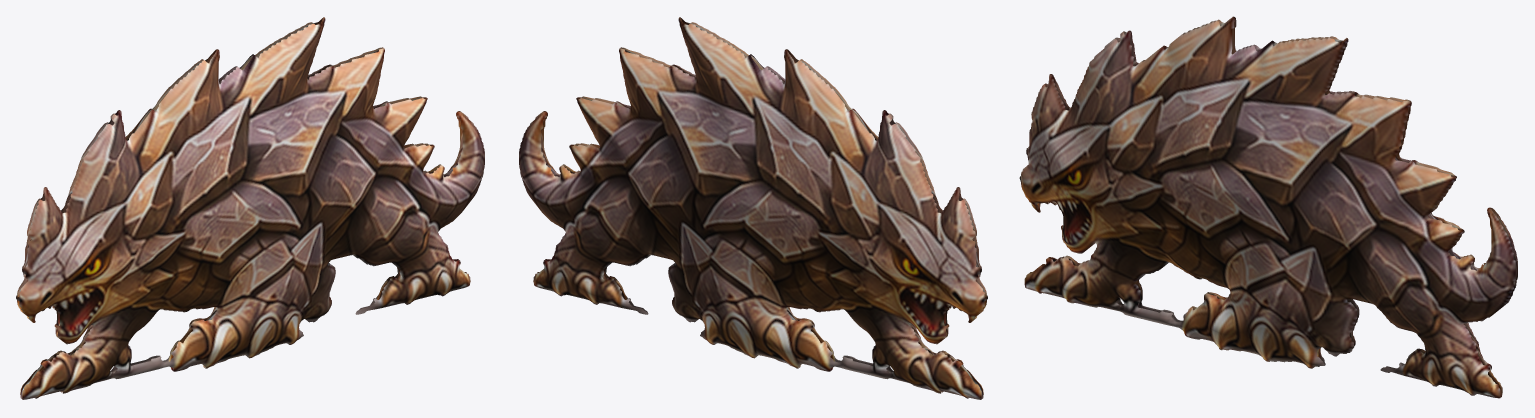
Rendered from rochedo.glb.
The picture shows the model from 3 angles, left to right: view 1: azimuth 30°, elevation 25°; view 2: azimuth 150°, elevation 25°; view 3: azimuth 330°, elevation 25°; orthographic projection. The views are drawn at different scales.
Visible parts, largest first — view 1: rochedo; view 2: rochedo; view 3: rochedo.
Part boxes in pixels (box(x1,y1,x2,y2)): rochedo: box(16, 17, 484, 399); rochedo: box(519, 17, 987, 399); rochedo: box(1019, 16, 1517, 398).
Size of the model in its own units: 1.97 by 1.31 by 0.2836.
Materials: 1 (1 with a texture image).
